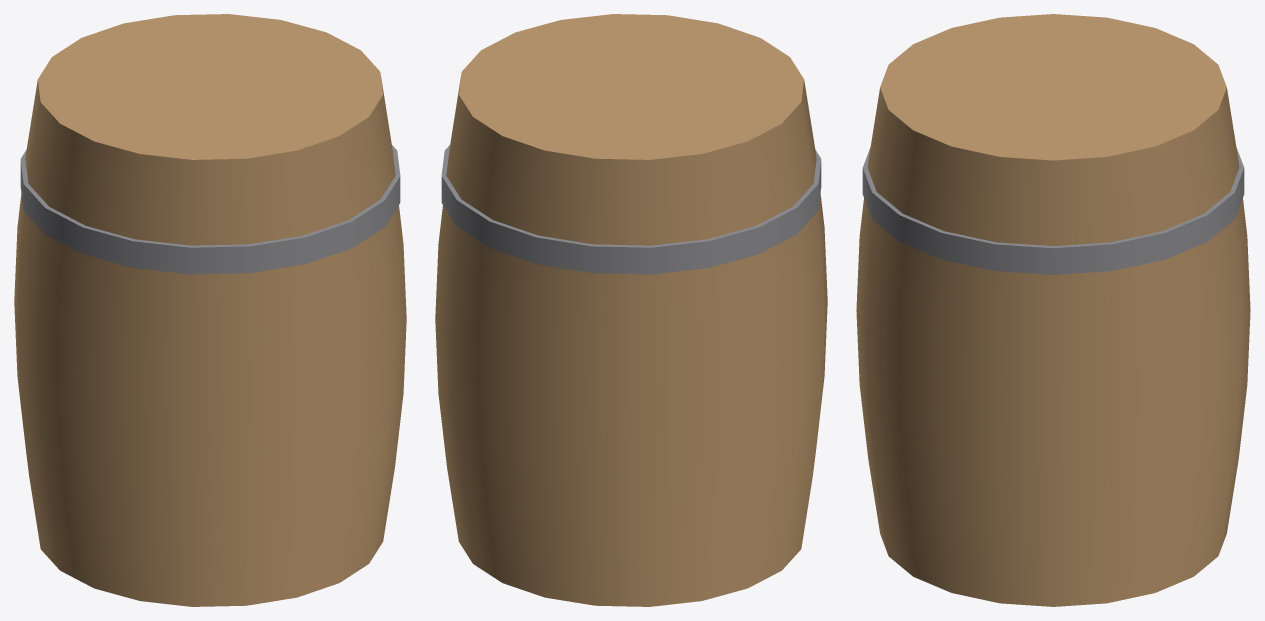
File: beczka.glb
3 views of the same model, side by side, from view 1: azimuth 30°, elevation 25°; view 2: azimuth 150°, elevation 25°; view 3: azimuth 270°, elevation 25° (orthographic).
Visible parts, largest first — view 1: beczka, obrecze; view 2: beczka, obrecze; view 3: beczka, obrecze.
Part boxes in pixels (box(x1,y1,x2,y2)): beczka: box(14, 14, 406, 606); obrecze: box(20, 145, 400, 274); beczka: box(435, 14, 827, 606); obrecze: box(441, 145, 821, 274); beczka: box(856, 14, 1250, 606); obrecze: box(862, 147, 1244, 274).
Bounding box in the file's own units: 0.8 × 1 × 0.8.
